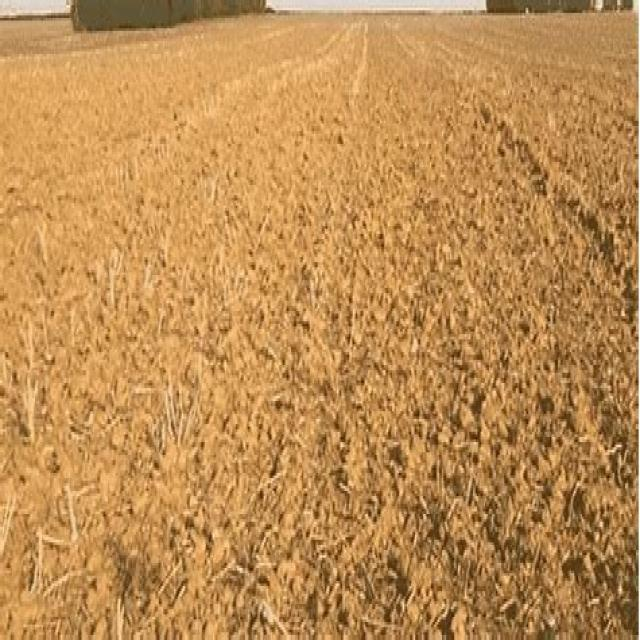Alluvial Soil: (293, 45, 624, 574), (18, 70, 260, 627)
